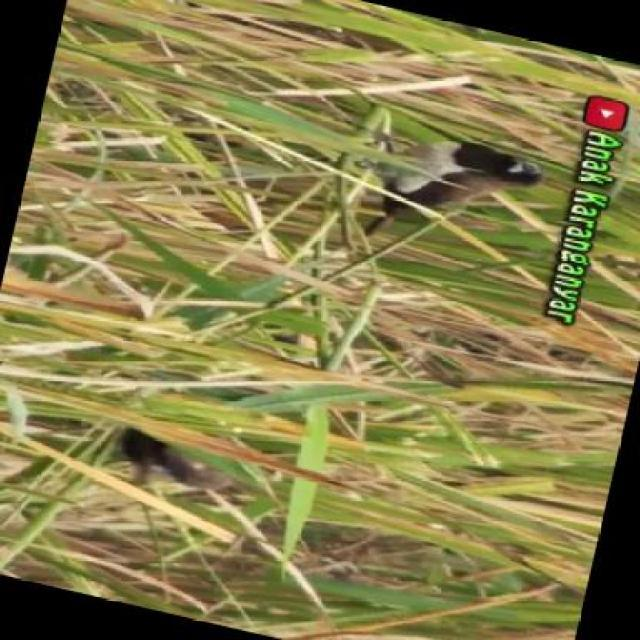Bird: (369, 119, 546, 237), (104, 429, 231, 507)
